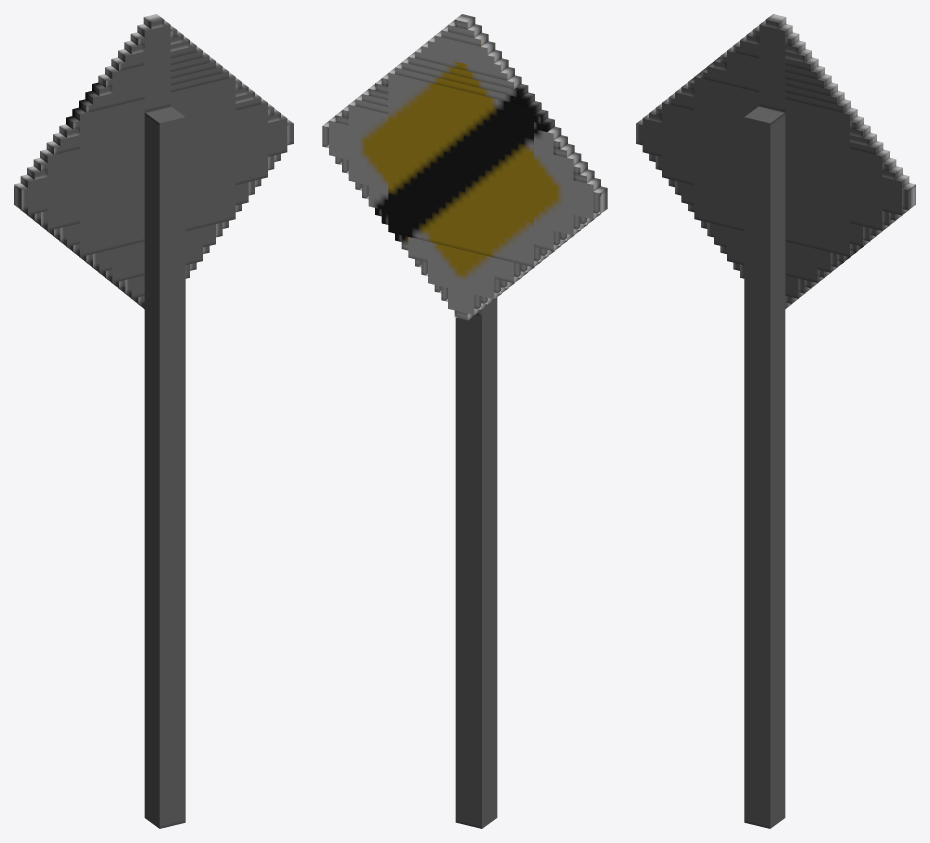
3 renders of one model, left to right at view 1: azimuth 30°, elevation 25°; view 2: azimuth 150°, elevation 25°; view 3: azimuth 330°, elevation 25°, orthographic. The views are drawn at different scales.
Parts seen in each view (by area): view 1: Content; view 2: Content; view 3: Content.
Boxes of the visible parts, x1,y1,x2,y2 form: Content: [14, 14, 293, 828]; Content: [322, 14, 607, 828]; Content: [636, 14, 915, 828].
Size of the model in its own units: 42 by 117 by 6.
Materials: 1 (1 with a texture image).
